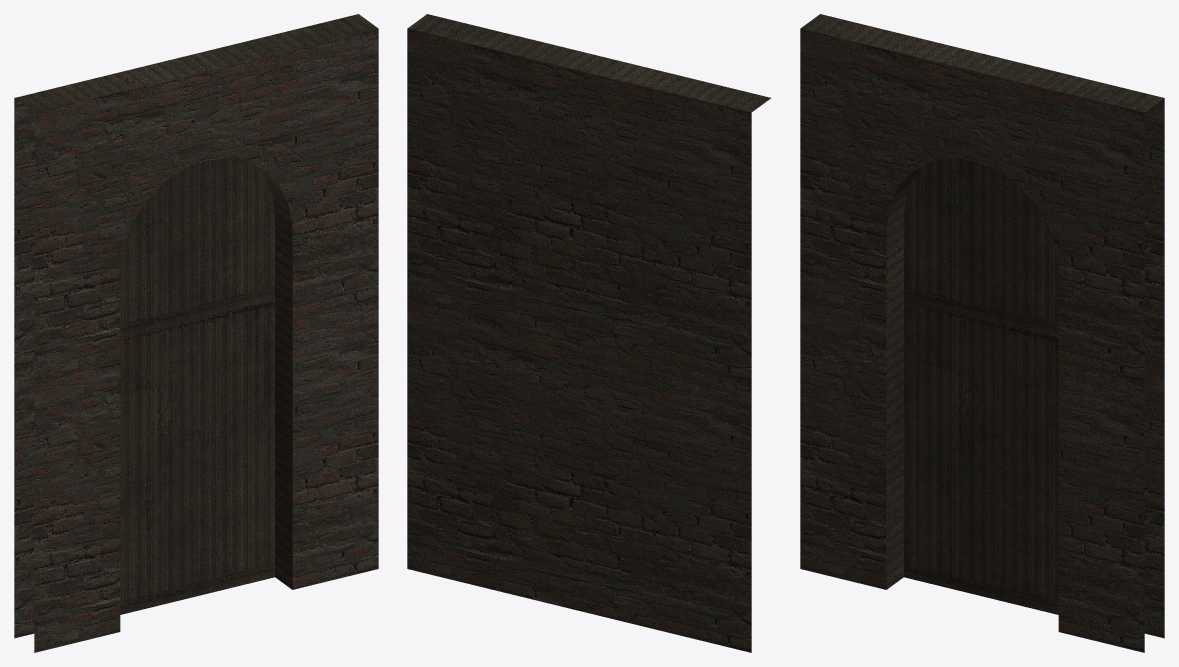
Rendered from wall_hr_15_double.glb.
The picture shows the model from 3 angles, left to right: view 1: azimuth 30°, elevation 25°; view 2: azimuth 150°, elevation 25°; view 3: azimuth 330°, elevation 25°; orthographic projection.
Parts seen in each view (by area): view 1: wall_hr_15_double; view 2: wall_hr_15_double; view 3: wall_hr_15_double.
Part boxes in pixels (x1=…): wall_hr_15_double: x1=14, y1=14, x2=378, y2=652; wall_hr_15_double: x1=407, y1=14, x2=770, y2=652; wall_hr_15_double: x1=800, y1=14, x2=1164, y2=652.
Size of the model in its own units: 4 by 6 by 0.4.
Materials: 2 (2 with a texture image).
